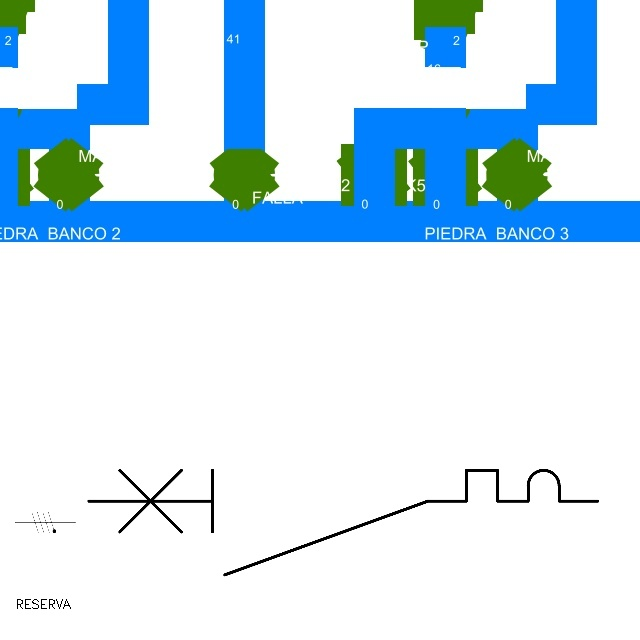interruptor_termomagnetico: (75, 457, 611, 588)
